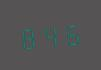eight: (18, 22, 38, 50)
four: (40, 20, 60, 49)
six: (61, 19, 81, 47)
